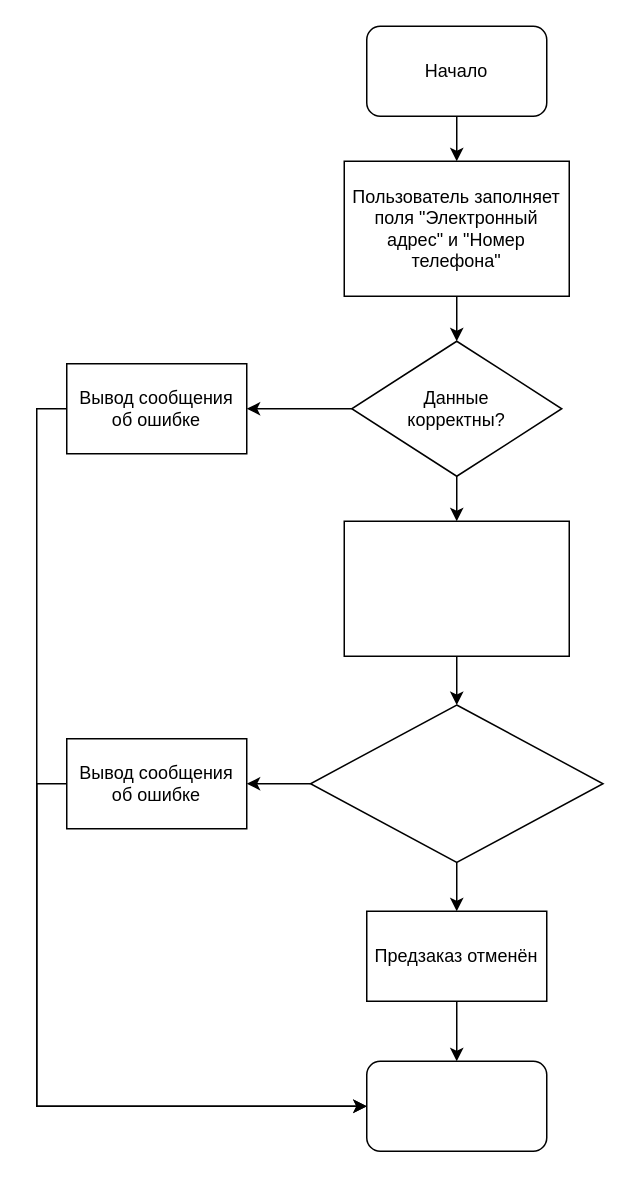
This 630x1178 diagram has some shape labels left out. Here are the shapes that lost their labels. From the top down, the centre of each, then its label:
(456,588): Пользователь нажимает кнопку "Отменить бронирование"
(456,783): Данные пользователя находятся в базе данных?
(456,1105): Конец
